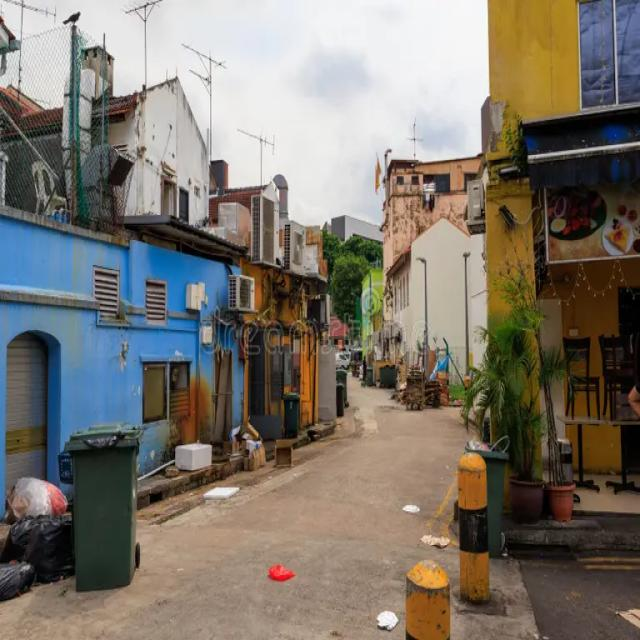bin_empty: (64, 417, 148, 606)
normal_waste: (10, 510, 72, 578), (14, 473, 59, 510)
